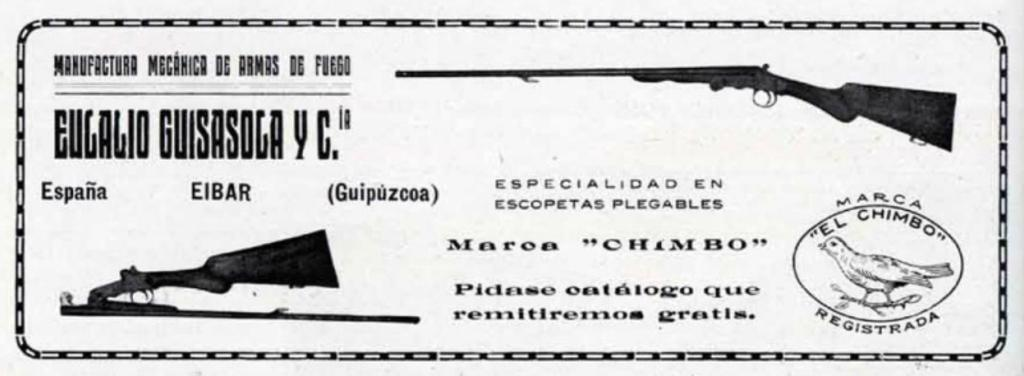Rifle: (396, 61, 962, 154), (60, 231, 422, 327)
